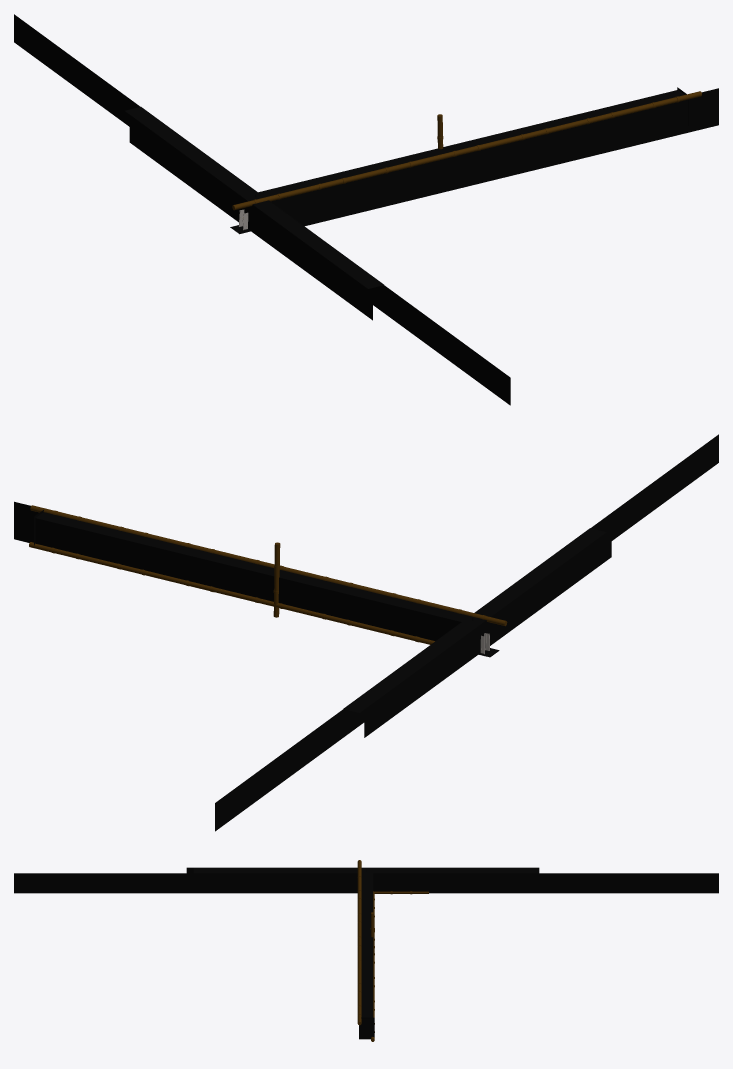
File: menu_test1.glb
3 views of the same model, one above another, from view 1: azimuth 30°, elevation 25°; view 2: azimuth 150°, elevation 25°; view 3: azimuth 270°, elevation 25° (orthographic). The views are drawn at different scales.
Parts seen in each view (by area): view 1: Plane, Cube; view 2: Plane, Cube; view 3: Plane, Cube.005.
Boxes of the visible parts, x1,y1,x2,y2 form: Plane: (14, 14, 684, 405); Cube: (271, 88, 718, 226); Plane: (35, 434, 718, 831); Cube: (14, 501, 39, 542); Plane: (14, 867, 718, 1019); Cube.005: (359, 1017, 374, 1039).
Bounding box in the file's own units: 58.34 × 8.28 × 103.
